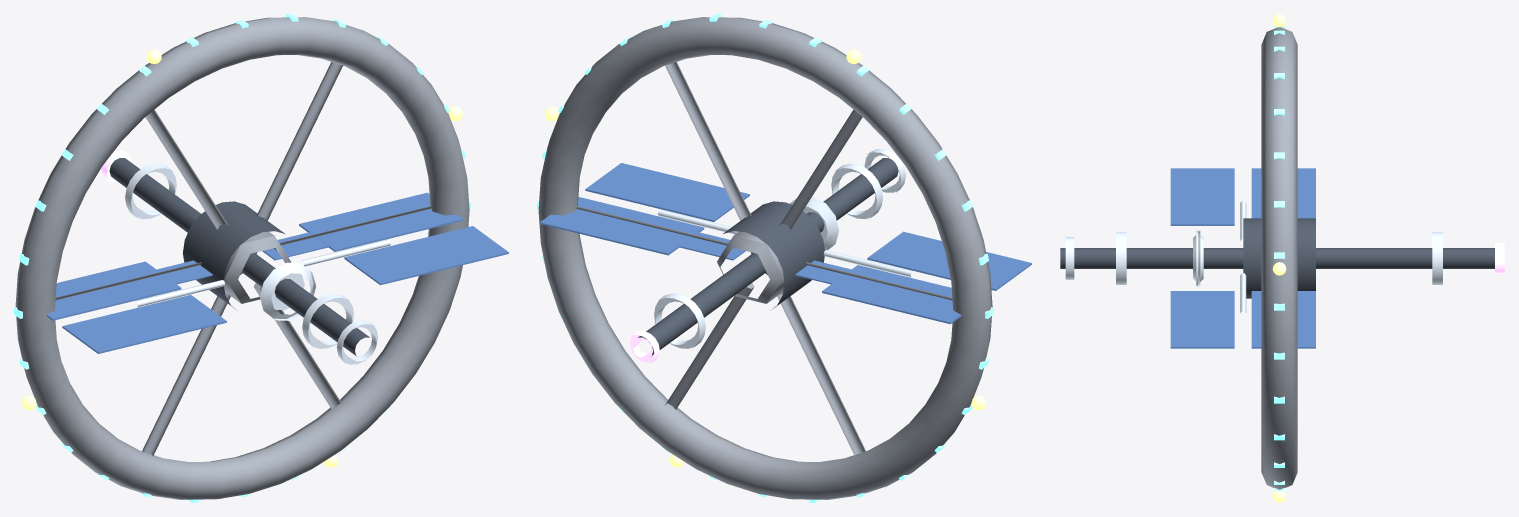
The model's file is space-outboard.glb.
3 views of the same model, side by side, from view 1: azimuth 30°, elevation 25°; view 2: azimuth 150°, elevation 25°; view 3: azimuth 270°, elevation 25° (orthographic). The views are drawn at different scales.
Visible parts, largest first — view 1: StationRing, StationCore, Probe; view 2: StationRing, StationCore, Probe; view 3: StationCore, StationRing, Probe.
Part boxes in pixels (box(x1,y1,x2,y2)): StationRing: box(14, 14, 470, 502); StationCore: box(47, 150, 508, 364); Probe: box(157, 231, 328, 320); StationRing: box(537, 14, 993, 502); StationCore: box(540, 149, 1031, 363); Probe: box(679, 196, 851, 303); StationCore: box(1060, 168, 1504, 348); StationRing: box(1261, 14, 1297, 502); Probe: box(1193, 230, 1203, 286).
Size of the model in its own units: 2.17 by 2.17 by 2.08.
